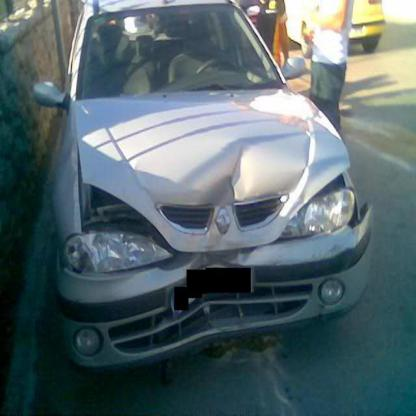front_bumper: (56, 203, 370, 371)
headlamp: (62, 232, 169, 273), (280, 192, 355, 237)
hood: (75, 88, 350, 251)
